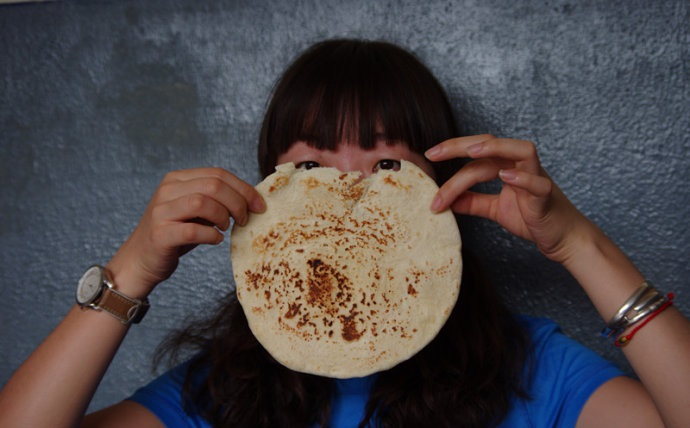face: (272, 110, 424, 301)
